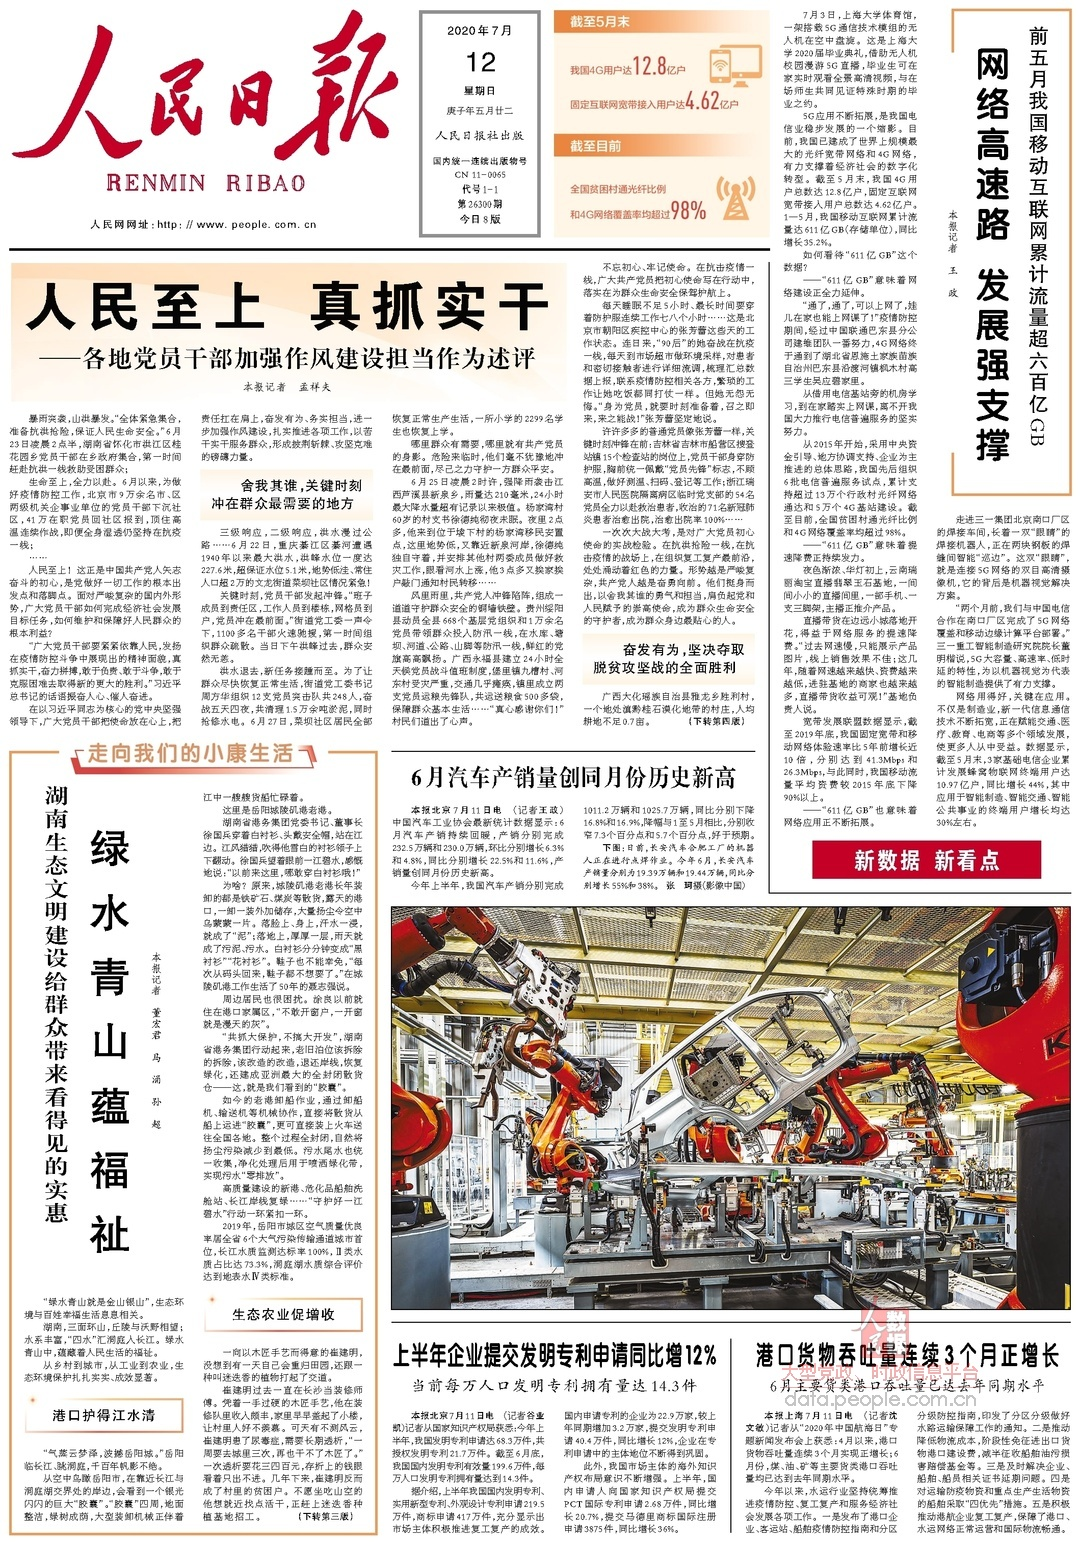pic: (387, 902, 1076, 1317)
